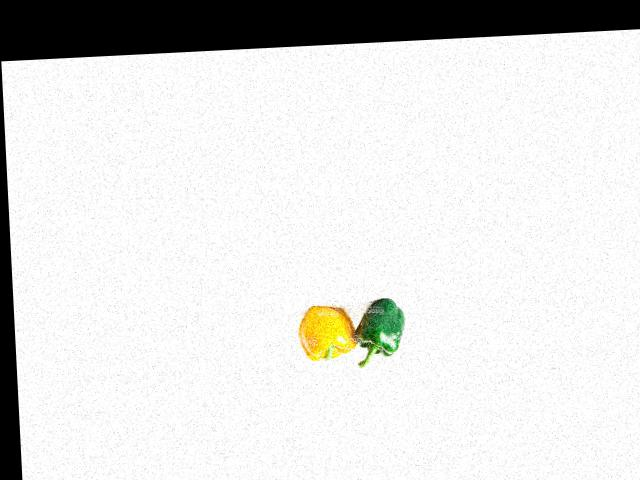bell_pepper: (353, 289, 411, 362)
